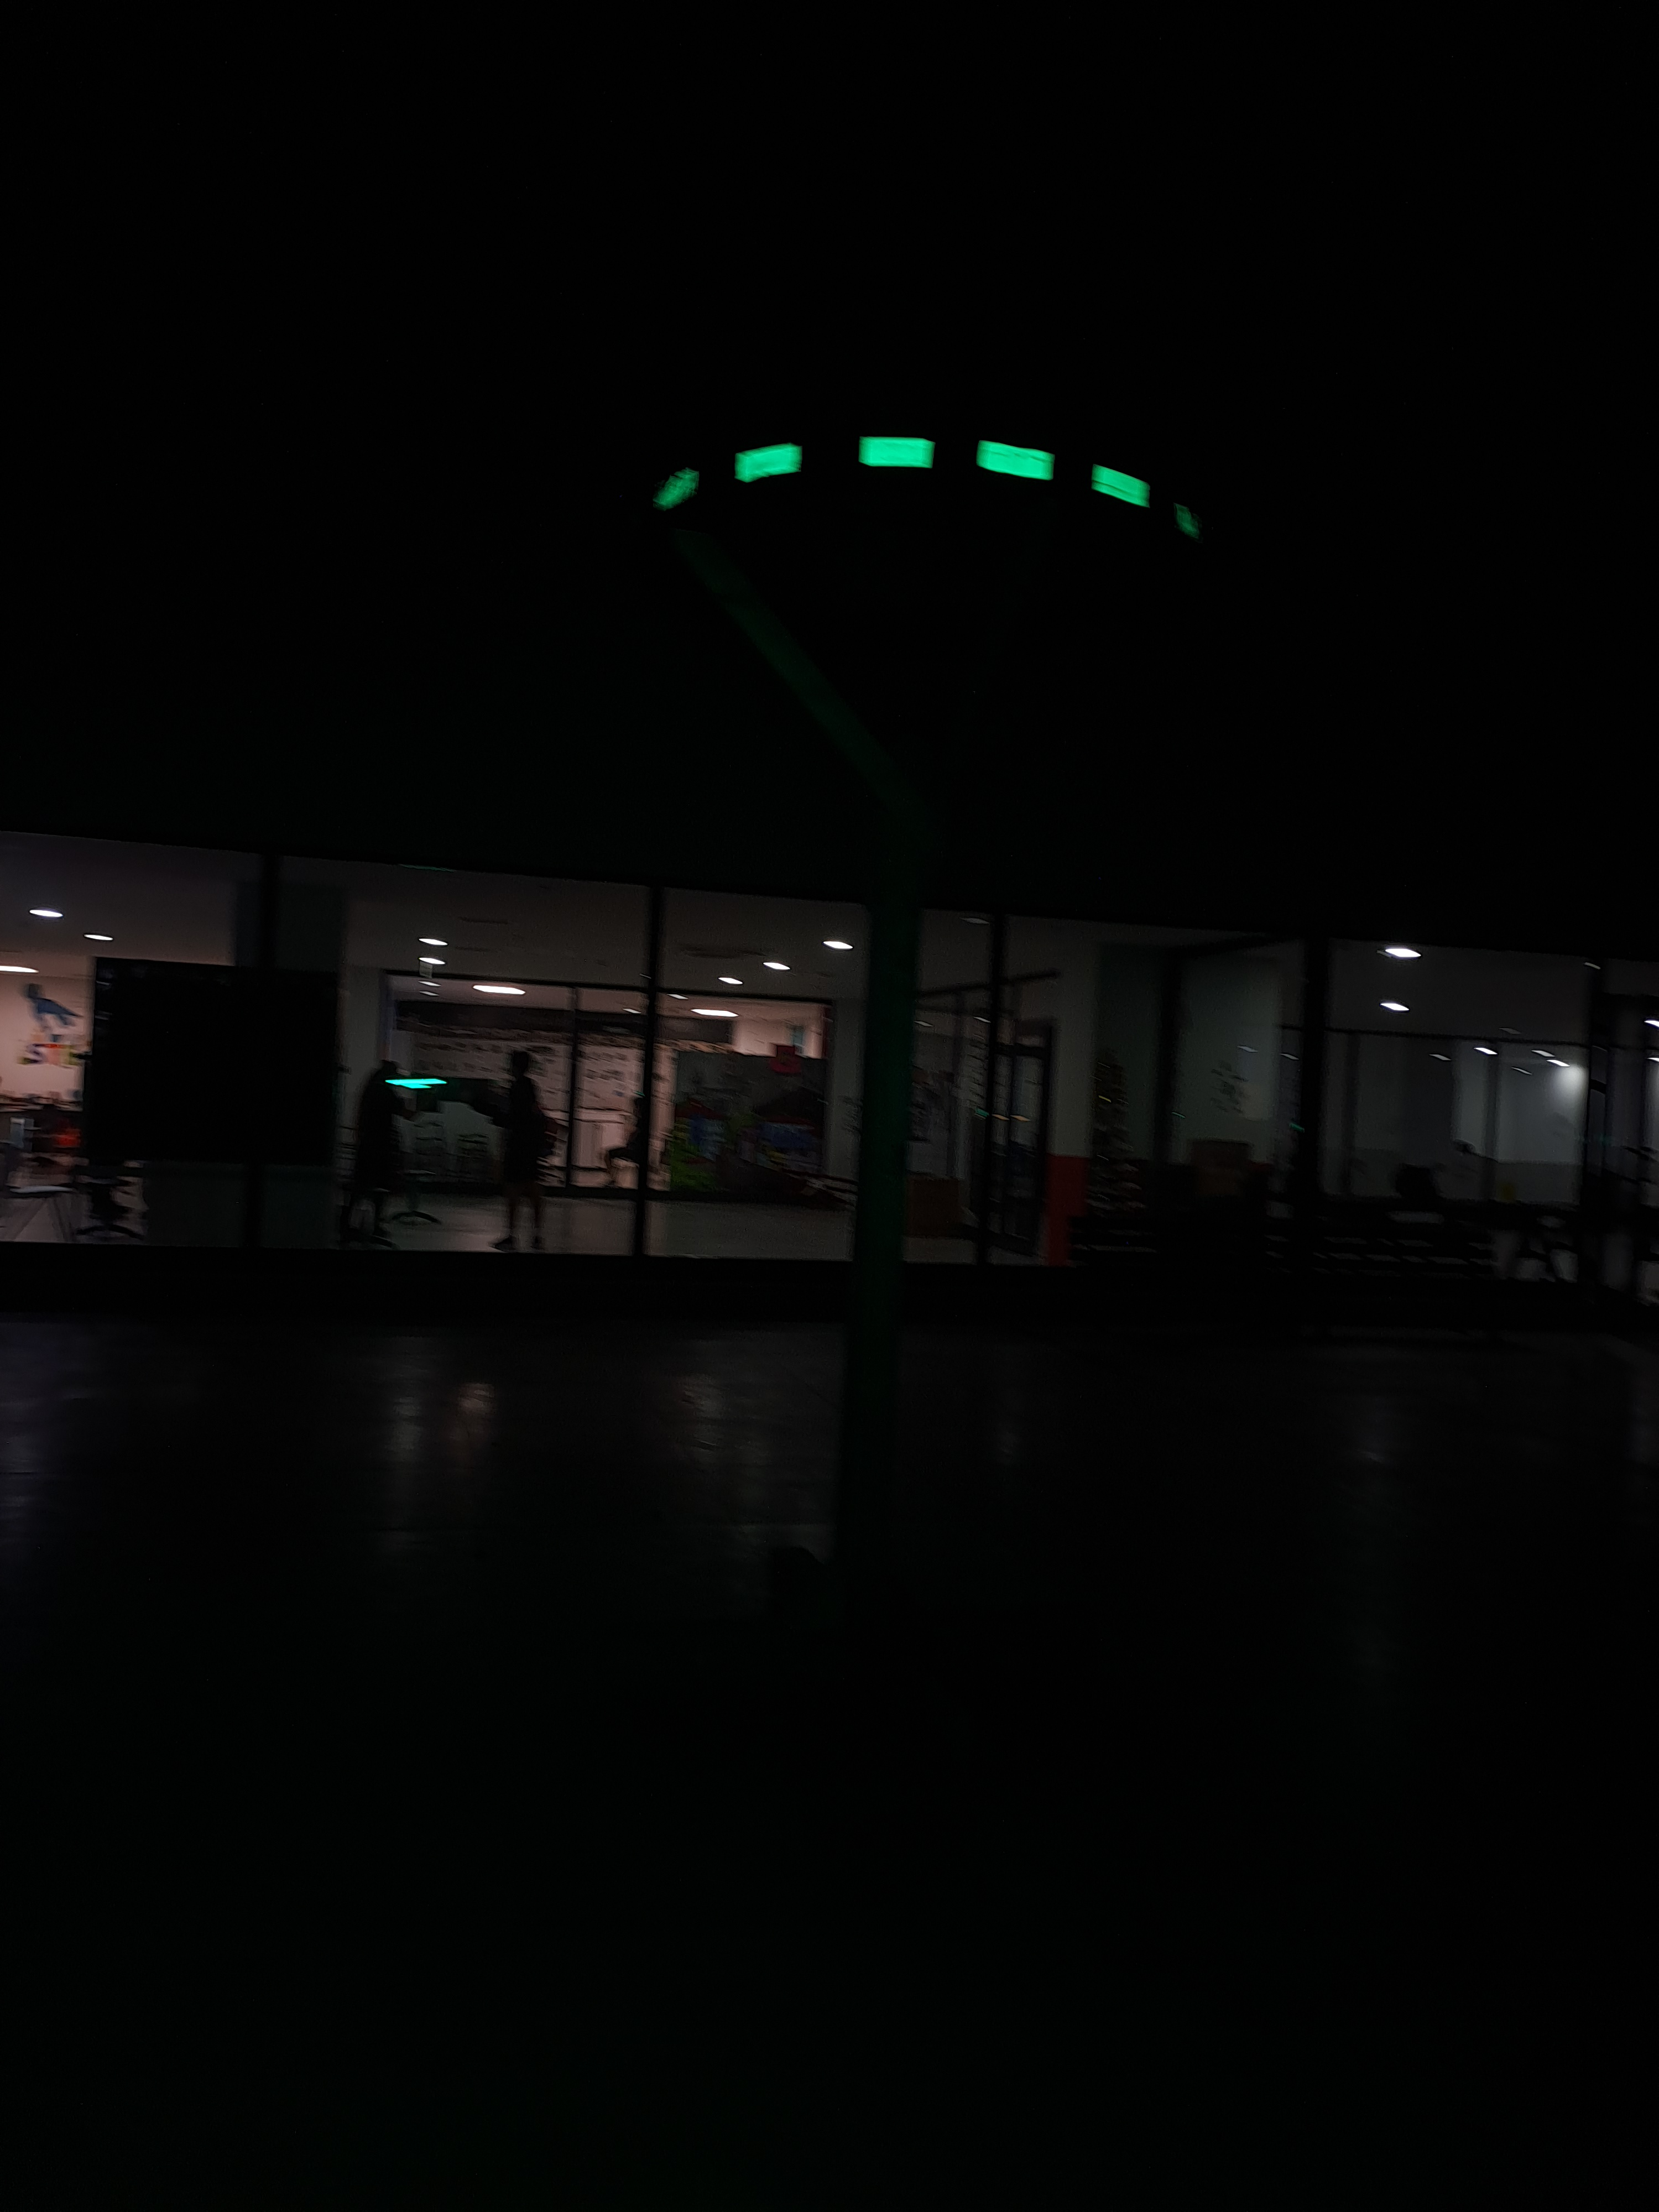hoop: (641, 434, 1204, 543)
